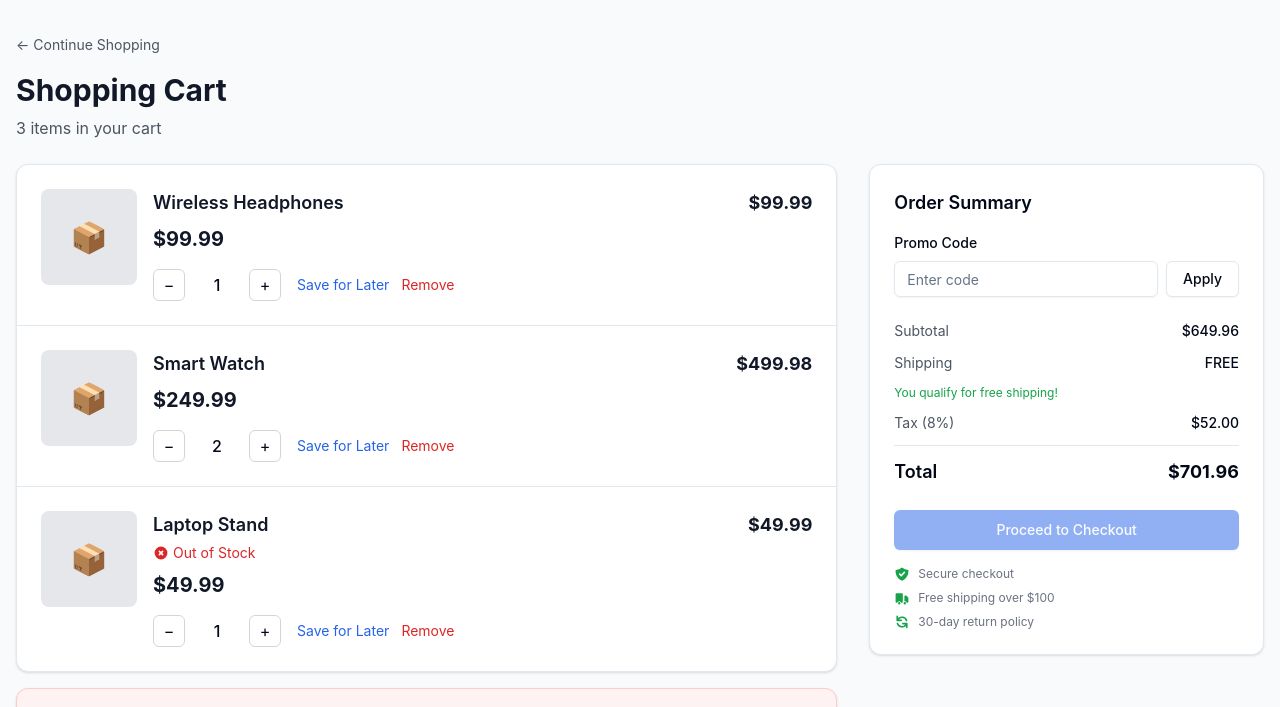
Test: CartPage - Save for Later › should remove saved item permanently
# Save an item
Click the button with test id "save-for-later-1".
click(343, 285)  # box [297, 275, 389, 295]
(page scrolled)
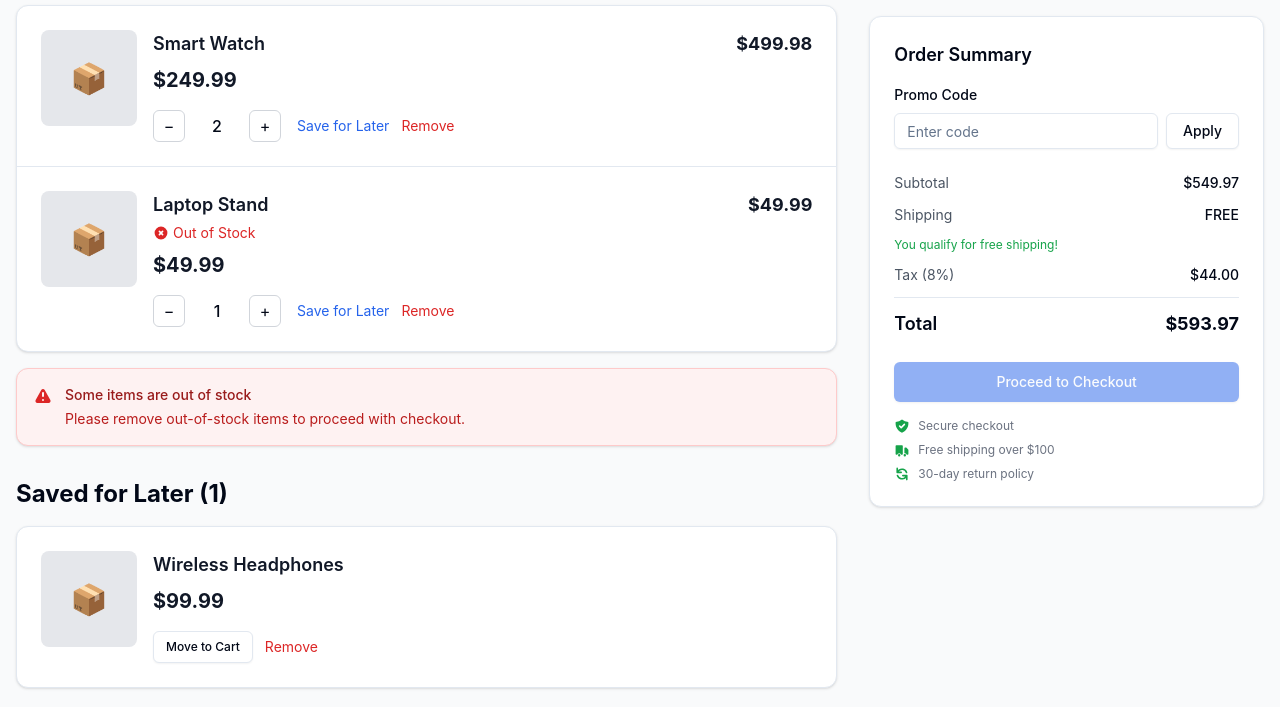
Result: the element with test id "saved-for-later-section" is shown at [16, 478, 837, 688]
# Remove the saved item
Click the button with test id "remove-saved-1".
click(291, 647)  # box [265, 631, 318, 663]
(page scrolled)
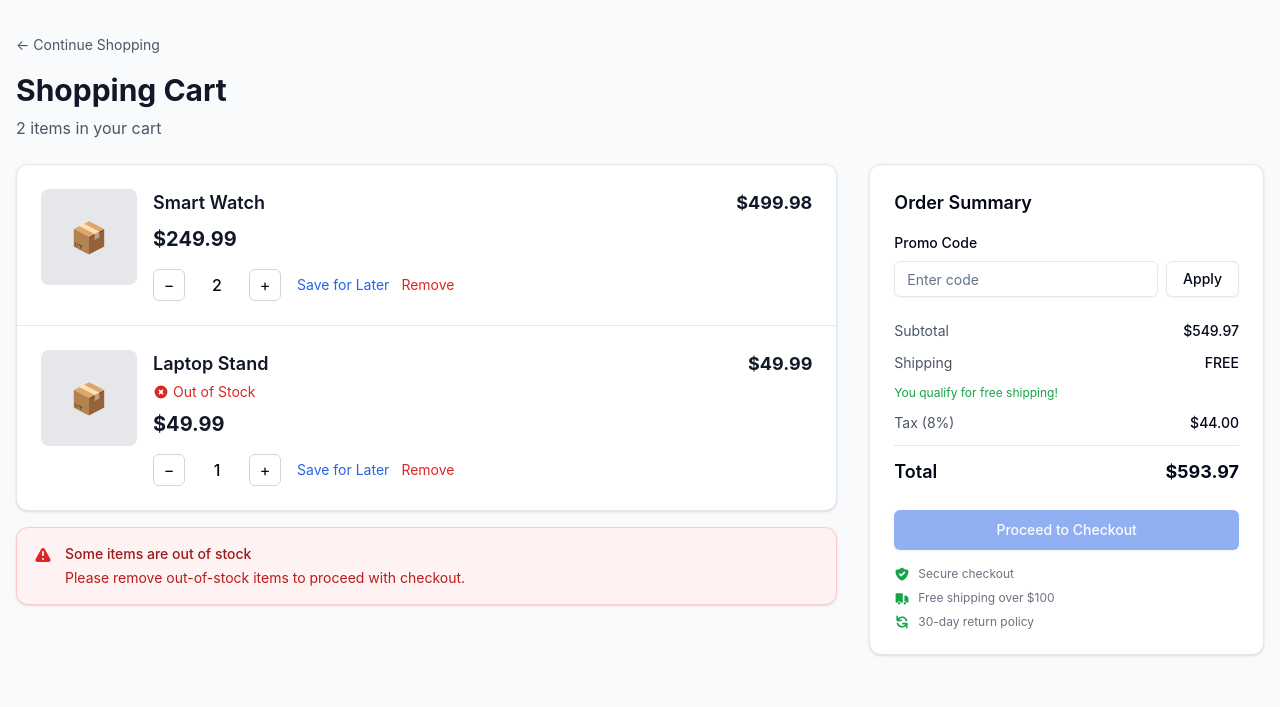
Result: the element with test id "saved-for-later-section" is gone
